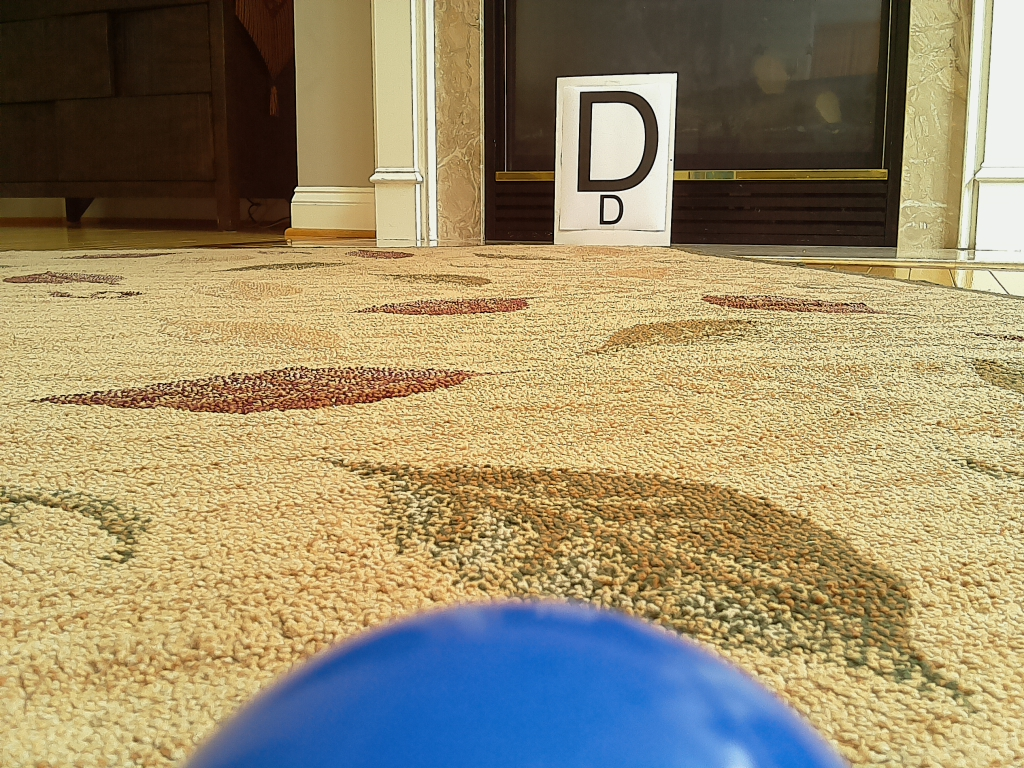letter: (581, 91, 659, 193)
